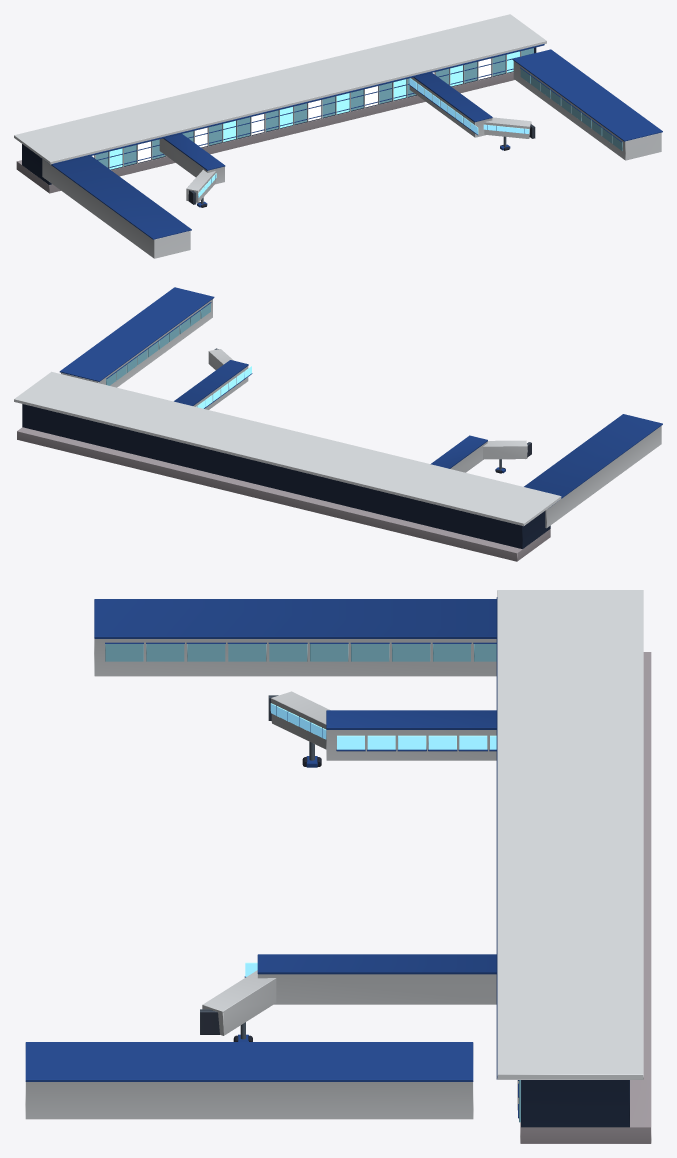
The model's file is gate_terminal.glb.
3 views of the same model, one above another, from view 1: azimuth 30°, elevation 25°; view 2: azimuth 150°, elevation 25°; view 3: azimuth 270°, elevation 25° (orthographic). The views are drawn at different scales.
Visible parts, largest first — view 1: gate_terminal; view 2: gate_terminal; view 3: gate_terminal.
Part boxes in pixels (x1,y1,x2,y2): gate_terminal: [14, 14, 662, 258]; gate_terminal: [14, 287, 662, 561]; gate_terminal: [25, 590, 651, 1143].
Size of the model in its own units: 105 by 7.49 by 57.3.
